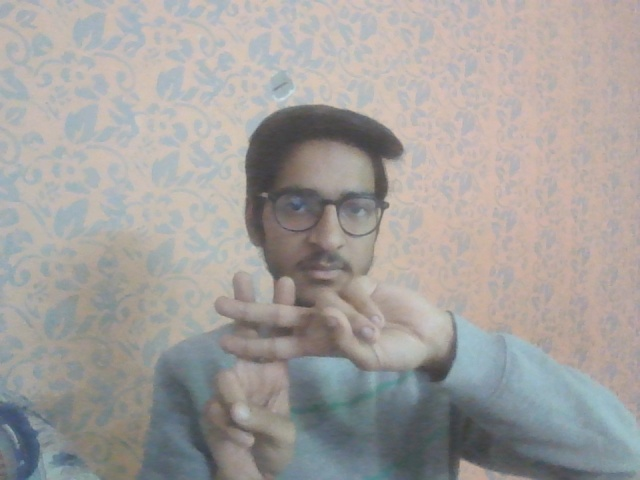HackJMI: (192, 268, 450, 480)
